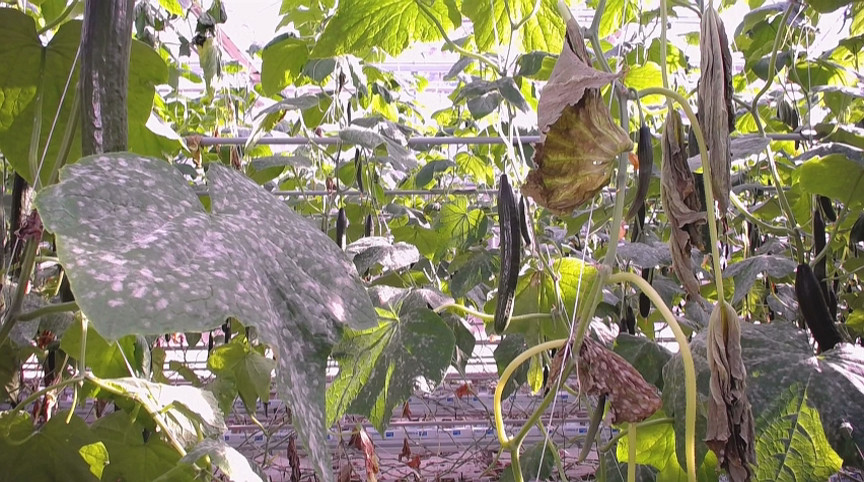cucumber: (82, 1, 135, 157), (492, 173, 520, 337), (795, 263, 844, 349), (624, 127, 658, 224), (811, 213, 830, 300), (337, 208, 348, 252)
